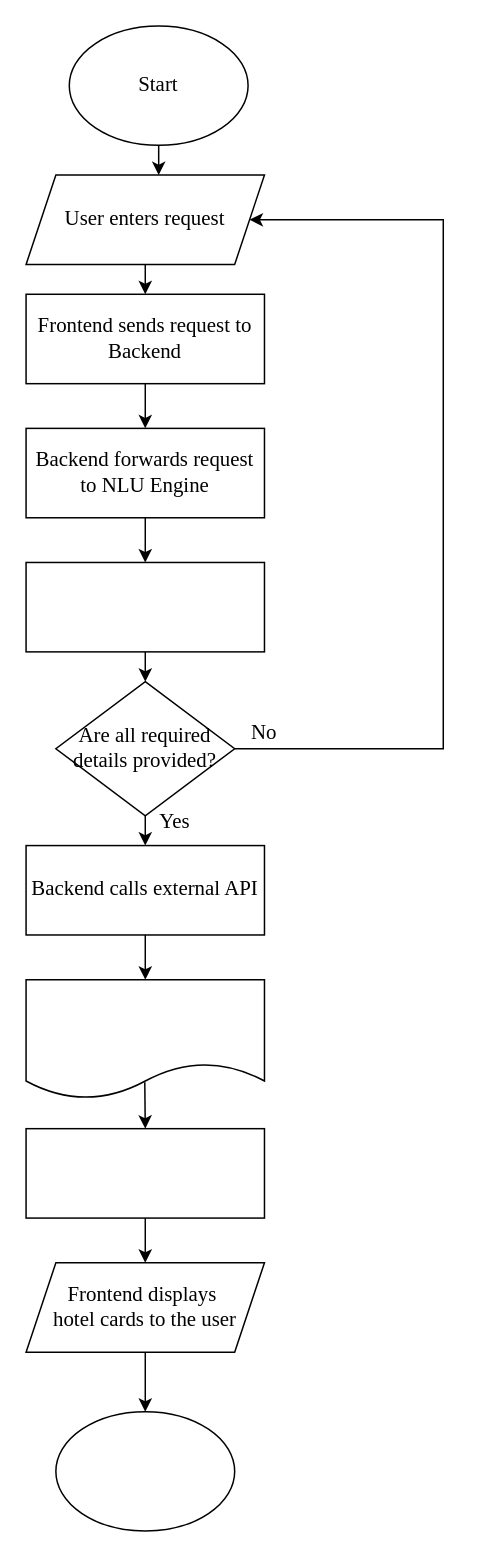
This 481x1557 diagram has some shape labels left out. Each missing label, with the box of its shape:
Backend filters and aggregates results: (25, 1127, 264, 1218)
End: (54, 1410, 235, 1531)
External API returns JSON with hotel list: (25, 978, 264, 1099)
NLU Engine analyzes and extracts Intent & Entities: (25, 561, 264, 652)
